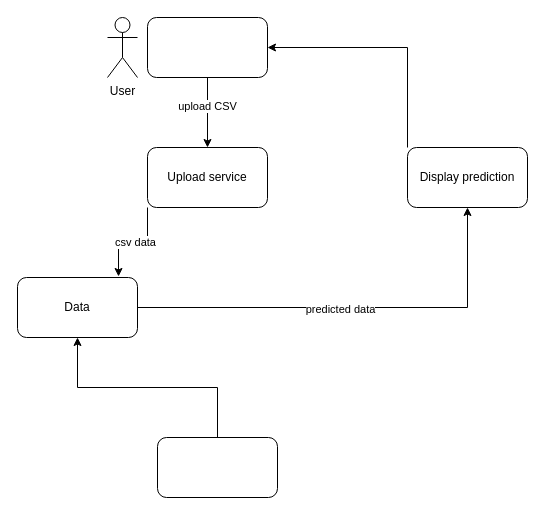
Some shapes in this 545 by 515 pixel diagram are drawn without their labels. Here are the shapes that lost their labels. From the top down, the box of each, then its label:
(146, 16, 268, 78): APP UI
(156, 436, 278, 498): Prediction service
